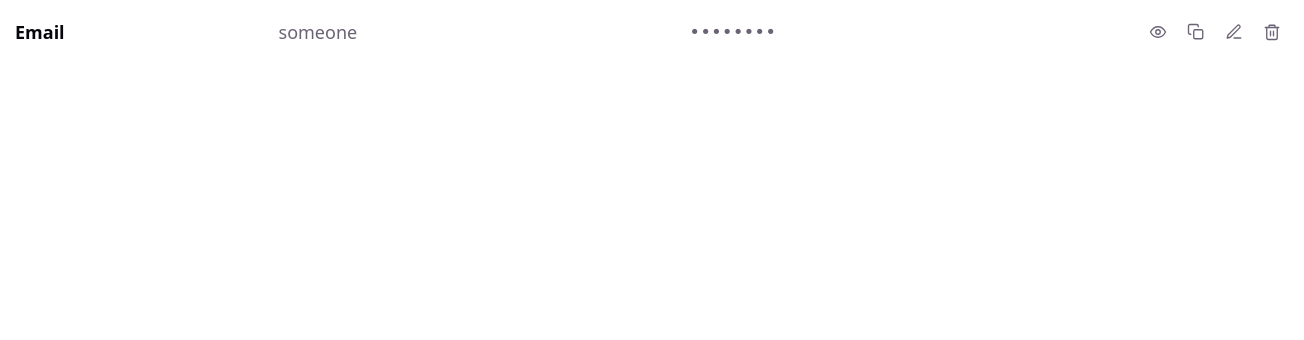
it: PasswordItem › shows an edit form pre-filled with the current values when Edit is clicked
Click the button named "Edit entry" at (1234, 32), box [1217,15,1251,49]
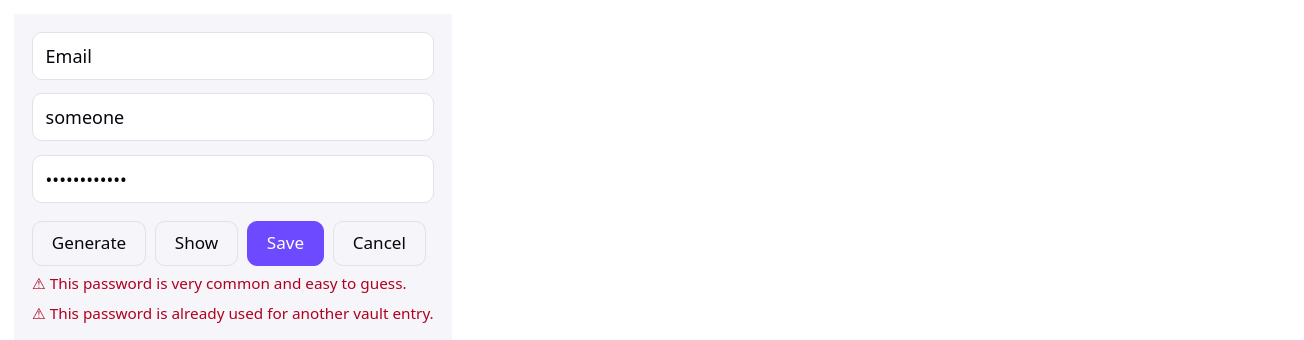
Now the 1st field with placeholder "Site name" holds "Email", box [32,32,434,80]
Now the 2nd field with placeholder "Username" holds "someone", box [32,93,434,141]
Now the password field with placeholder "Password" holds "super-secret", box [32,155,434,203]
